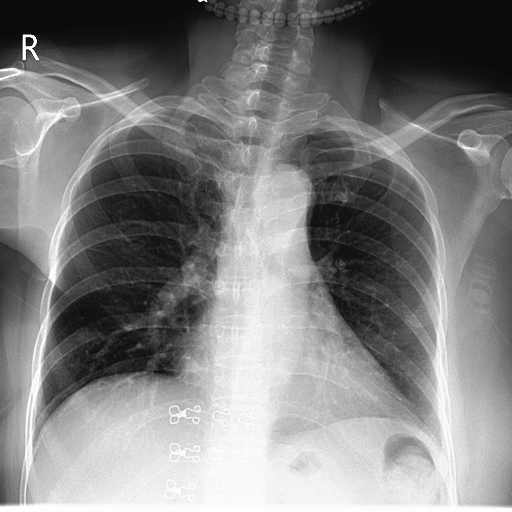Consolidation: (262, 163, 315, 240)
Nodule/Mass: (175, 330, 408, 421)
